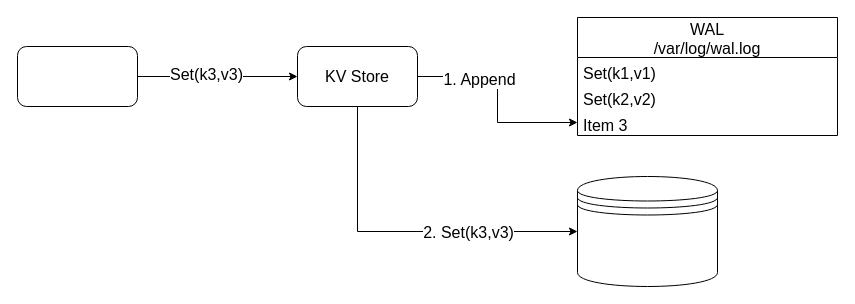
This 855x304 diagram has some shape labels left out. The centre of each missing label's shape, as x and y in pixels:
Client: pixel 77 76
k1: v1 k2: v2 k3: v3: pixel 647 231
